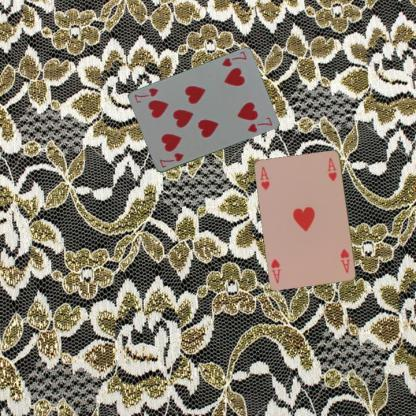7h: (156, 151, 185, 170), (219, 49, 248, 68)
Ah: (338, 246, 352, 275), (257, 164, 271, 191)
